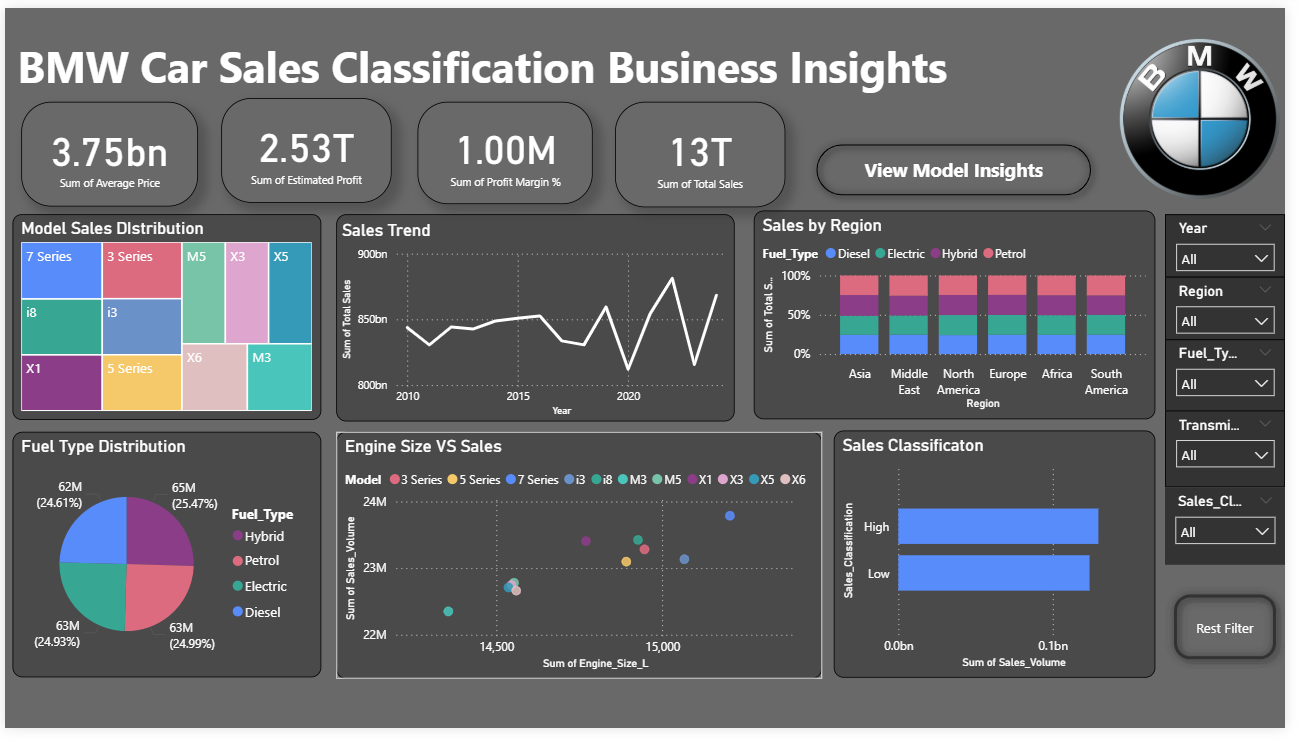

Layout of this report page (visuals, bound fields, positions):
{"tool":"powerbi","page":{"name":"Main","canvas":[1280,720],"ordinal":0},"visuals":[{"type":"card","fields":{"Values":["Sum(BMW_Car_Sales_Cleaned.Average Price)"]},"box":[16.7,93.3,176.7,105],"z":0},{"type":"card","fields":{"Values":["Sum(BMW_Car_Sales_Cleaned.Estimated Profit)"]},"box":[216.7,90,170,105],"z":1000},{"type":"card","fields":{"Values":["Sum(BMW_Car_Sales_Cleaned.Profit Margin %)"]},"box":[412.2,93.3,175.6,102.2],"z":2000},{"type":"card","fields":{"Values":["Sum(BMW_Car_Sales_Cleaned.Total Sales)"]},"box":[610,93.3,170,105.6],"z":3000},{"type":"lineChart","title":"Sales Trend","fields":{"Category":["BMW_Car_Sales_Cleaned.Year"],"Y":["Sum(BMW_Car_Sales_Cleaned.Total Sales)"]},"box":[331,205.7,398.6,207],"z":4000},{"type":"hundredPercentStackedColumnChart","title":"Sales by Region","fields":{"Category":["BMW_Car_Sales_Cleaned.Region"],"Y":["Sum(BMW_Car_Sales_Cleaned.Total Sales)"],"Series":["BMW_Car_Sales_Cleaned.Fuel_Type"]},"box":[748.6,202.9,401.4,208.6],"z":5000},{"type":"treemap","title":"Model Sales DIstribution","fields":{"Group":["BMW_Car_Sales_Cleaned.Model"],"Values":["Sum(BMW_Car_Sales_Cleaned.Sales_Volume)"]},"box":[7.1,205.7,308.6,205.7],"z":6000},{"type":"pieChart","title":"Fuel Type Distribution","fields":{"Category":["BMW_Car_Sales_Cleaned.Fuel_Type"],"Y":["Sum(BMW_Car_Sales_Cleaned.Sales_Volume)"]},"box":[7.1,424.3,308.6,245.7],"z":7000},{"type":"clusteredBarChart","title":"Sales Classificaton","fields":{"Category":["BMW_Car_Sales_Cleaned.Sales_Classification"],"Y":["Sum(BMW_Car_Sales_Cleaned.Sales_Volume)"]},"box":[828.6,422.9,321.4,247.1],"z":8000},{"type":"scatterChart","title":"Engine Size VS Sales","fields":{"X":["Sum(BMW_Car_Sales_Cleaned.Engine_Size_L)"],"Y":["Sum(BMW_Car_Sales_Cleaned.Sales_Volume)"],"Series":["BMW_Car_Sales_Cleaned.Model"]},"box":[331.4,424.3,485.7,247.1],"z":9000},{"type":"textbox","box":[7.8,23.3,962.2,85.6],"z":10000},{"type":"slicer","fields":{"Values":["BMW_Car_Sales_Cleaned.Year"]},"box":[1160,205.7,120,62.9],"z":11000},{"type":"slicer","fields":{"Values":["BMW_Car_Sales_Cleaned.Region"]},"box":[1160,268.6,120,62.9],"z":12000},{"type":"slicer","fields":{"Values":["BMW_Car_Sales_Cleaned.Fuel_Type"]},"box":[1160,331.4,120,72.9],"z":13000},{"type":"slicer","fields":{"Values":["BMW_Car_Sales_Cleaned.Transmission"]},"box":[1160,402.9,120,77.1],"z":14000},{"type":"image","box":[1110,23.8,170,175],"z":15000},{"type":"actionButton","box":[1160,577.1,120,82.9],"z":16000},{"type":"slicer","fields":{"Values":["BMW_Car_Sales_Cleaned.Sales_Classification"]},"box":[1160,480,120,77.1],"z":17000},{"type":"shape","box":[802.5,127.5,292.5,68.8],"z":17001}]}

Visuals, with their boxes in screenshot pixels (x1, y1, x2, y2), scaled from the page's 1280x720 canvas onto the 1299x742 screenshot:
card - Sum(BMW_Car_Sales_Cleaned.Average Price): (17,96,196,204)
card - Sum(BMW_Car_Sales_Cleaned.Estimated Profit): (220,93,392,201)
card - Sum(BMW_Car_Sales_Cleaned.Profit Margin %): (418,96,597,201)
card - Sum(BMW_Car_Sales_Cleaned.Total Sales): (619,96,792,205)
"Sales Trend" lineChart: (336,212,740,425)
"Sales by Region" hundredPercentStackedColumnChart: (760,209,1167,424)
"Model Sales DIstribution" treemap: (7,212,320,424)
"Fuel Type Distribution" pieChart: (7,437,320,690)
"Sales Classificaton" clusteredBarChart: (841,436,1167,690)
"Engine Size VS Sales" scatterChart: (336,437,829,692)
textbox: (8,24,984,112)
slicer - BMW_Car_Sales_Cleaned.Year: (1177,212,1298,277)
slicer - BMW_Car_Sales_Cleaned.Region: (1177,277,1298,342)
slicer - BMW_Car_Sales_Cleaned.Fuel_Type: (1177,342,1298,417)
slicer - BMW_Car_Sales_Cleaned.Transmission: (1177,415,1298,495)
image: (1126,25,1298,205)
actionButton: (1177,595,1298,680)
slicer - BMW_Car_Sales_Cleaned.Sales_Classification: (1177,495,1298,574)
shape: (814,131,1111,202)
